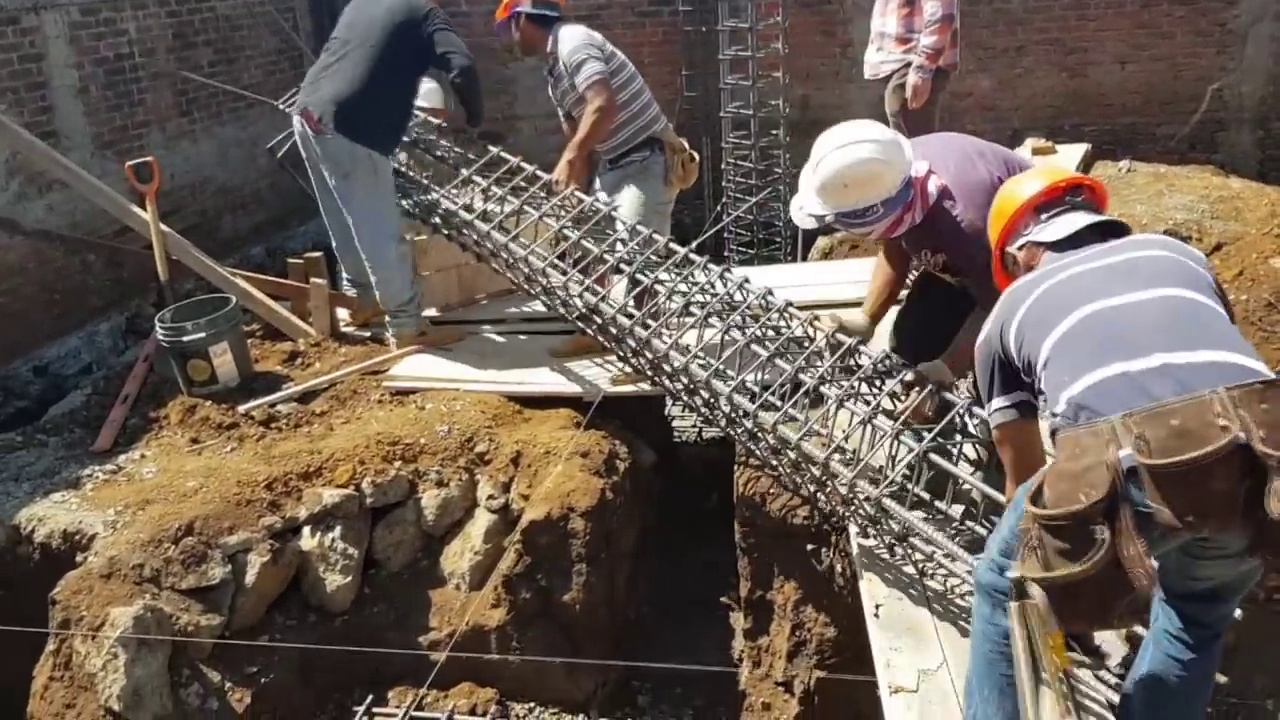helmet: (985, 157, 1117, 282), (793, 113, 913, 232), (495, 2, 568, 27)
helmet-on: (987, 150, 1142, 300), (796, 112, 940, 250), (493, 0, 563, 57)
person: (952, 146, 1280, 720), (487, 0, 704, 386), (286, 0, 491, 350), (790, 103, 1013, 419), (854, 0, 965, 148)
